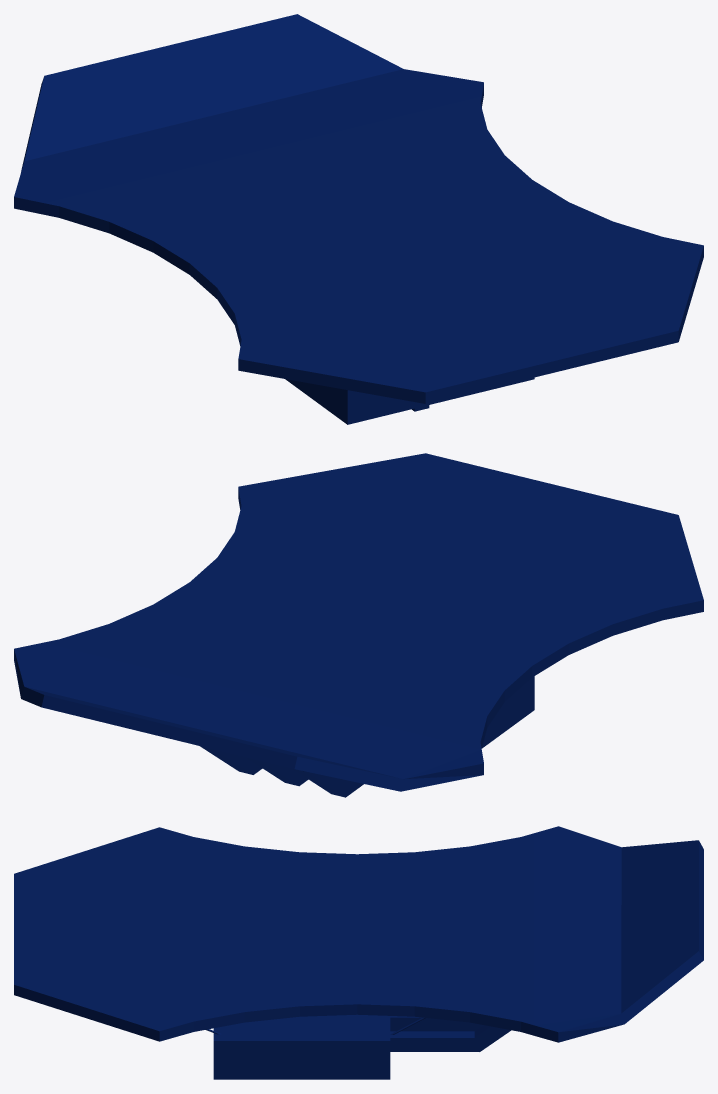
3 views of the same model, one above another, from view 1: azimuth 30°, elevation 25°; view 2: azimuth 150°, elevation 25°; view 3: azimuth 270°, elevation 25° (orthographic). The views are drawn at different scales.
Parts seen in each view (by area): view 1: tmp_export_Cube.001; view 2: tmp_export_Cube.001; view 3: tmp_export_Cube.001.
Boxes of the visible parts, left/top/right/bottom form: tmp_export_Cube.001: left=14, top=14, right=703, bottom=424; tmp_export_Cube.001: left=14, top=453, right=703, bottom=797; tmp_export_Cube.001: left=14, top=826, right=703, bottom=1079.
Bounding box in the file's own units: 2.65 × 3.75 × 0.9805.
